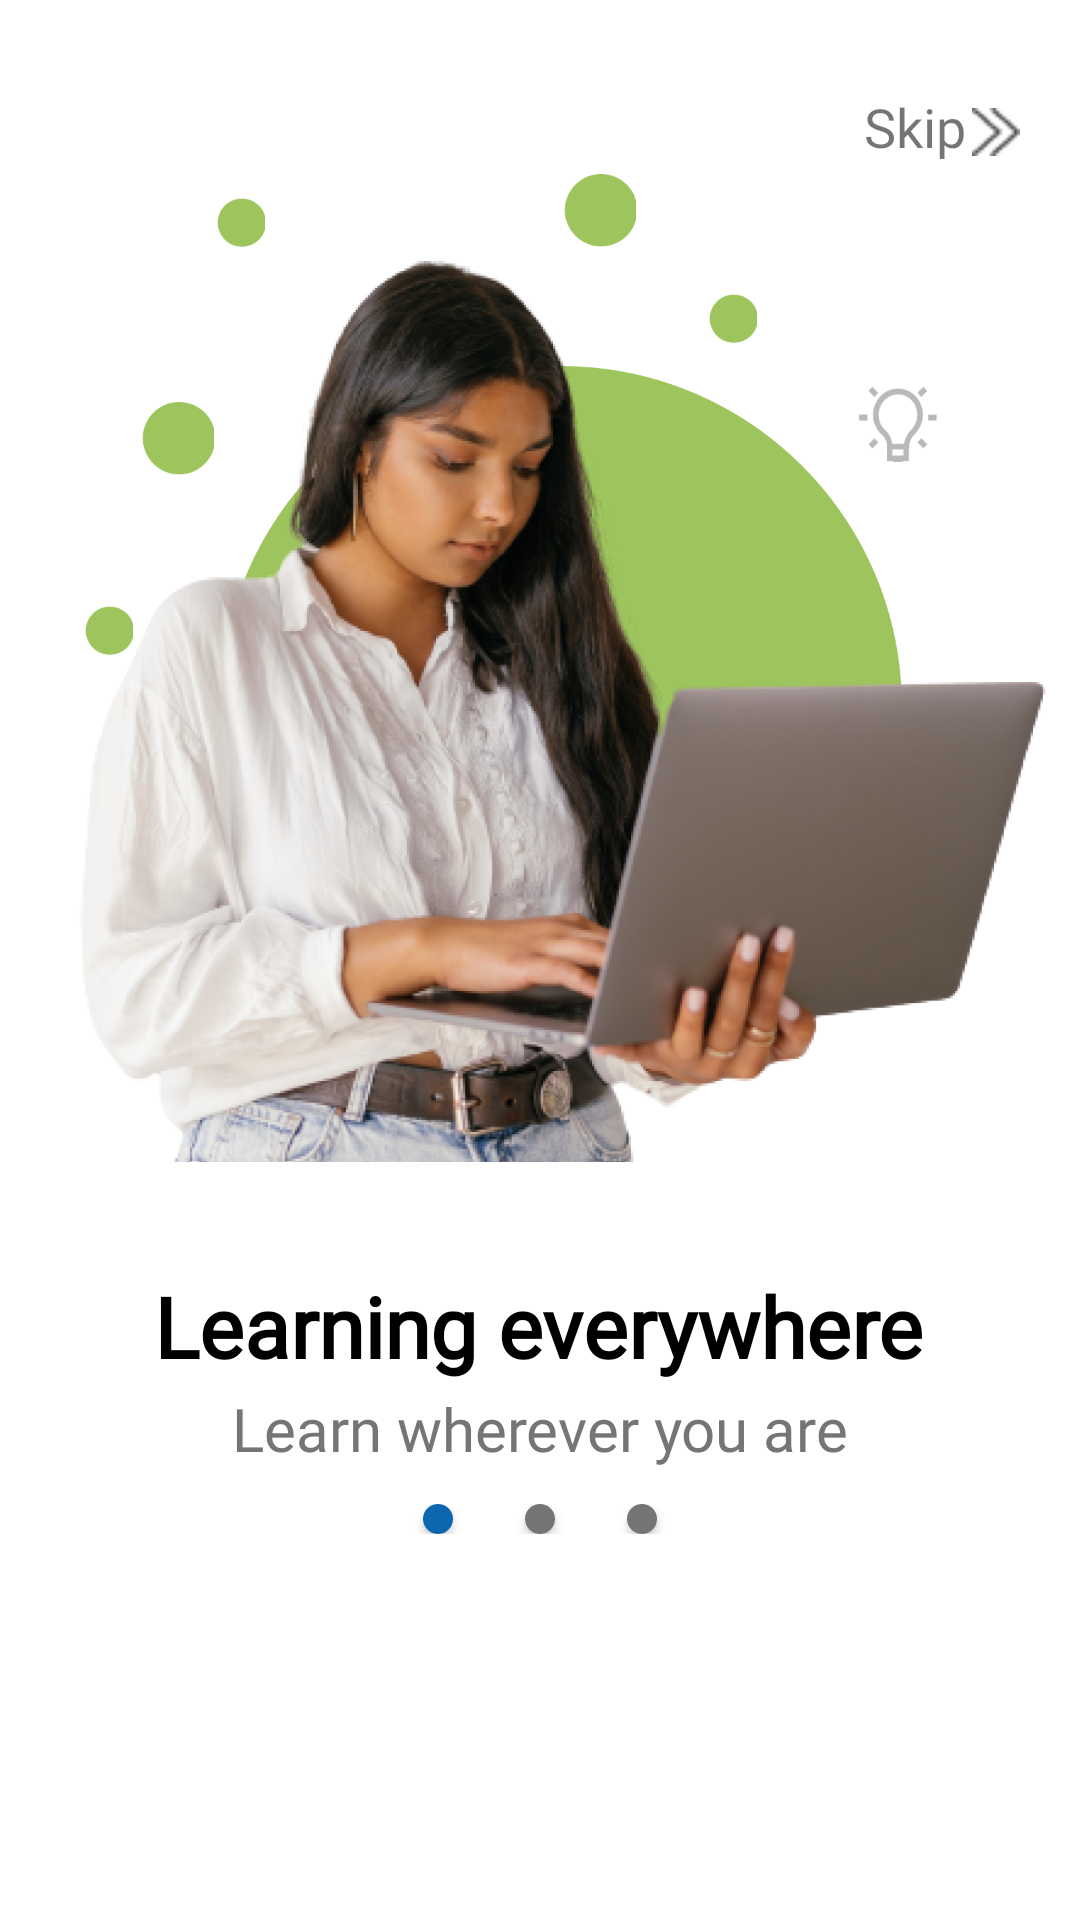

Point at icon controls on the screen. Image size 1080px×1920px, points as [x,y].
arrow: [996,132]
idea: [898,424]
